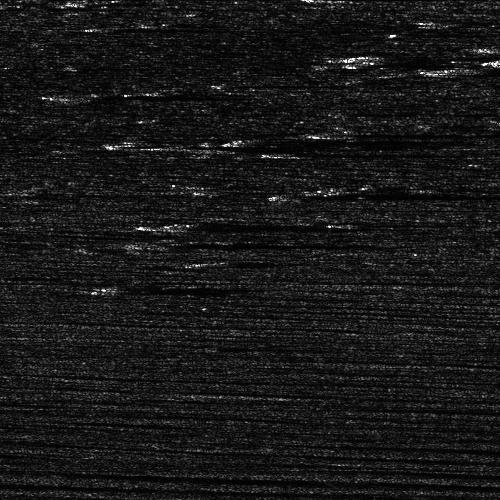object: (116, 137, 261, 156), (408, 65, 500, 74), (325, 51, 388, 64), (39, 87, 112, 98), (50, 22, 133, 31), (462, 51, 500, 70), (136, 220, 209, 229), (87, 241, 160, 248), (461, 42, 500, 55), (250, 190, 313, 197), (163, 258, 226, 265), (283, 131, 356, 136), (82, 285, 123, 290), (250, 150, 291, 155)
shadow: (189, 137, 379, 156), (173, 220, 424, 229), (75, 87, 261, 98), (357, 51, 500, 64), (282, 190, 475, 197), (124, 241, 308, 248), (92, 22, 218, 31), (271, 150, 465, 155), (103, 285, 291, 290), (319, 131, 500, 136), (195, 258, 257, 265), (454, 65, 500, 74), (0, 150, 33, 155)
